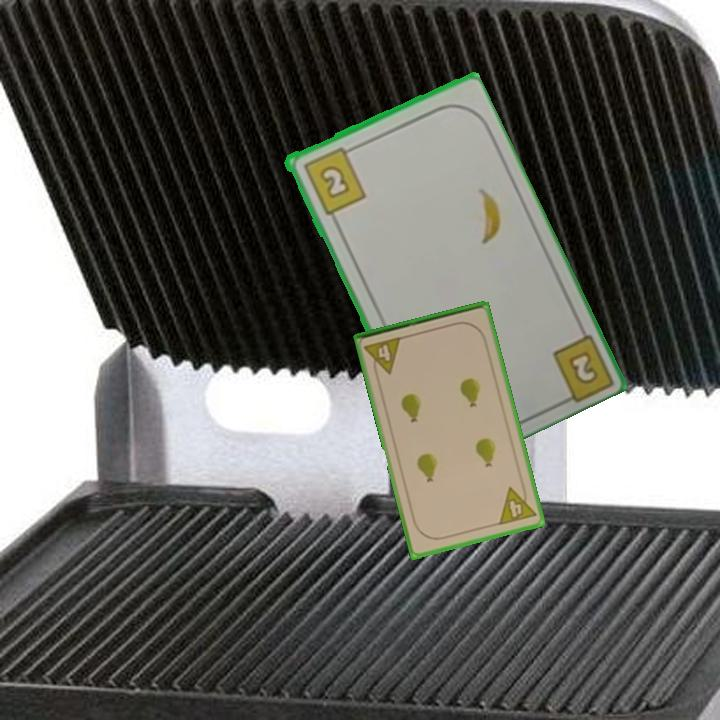2b: (299, 142, 369, 217), (564, 347, 601, 388)
4p: (495, 481, 539, 528), (361, 333, 405, 379)
